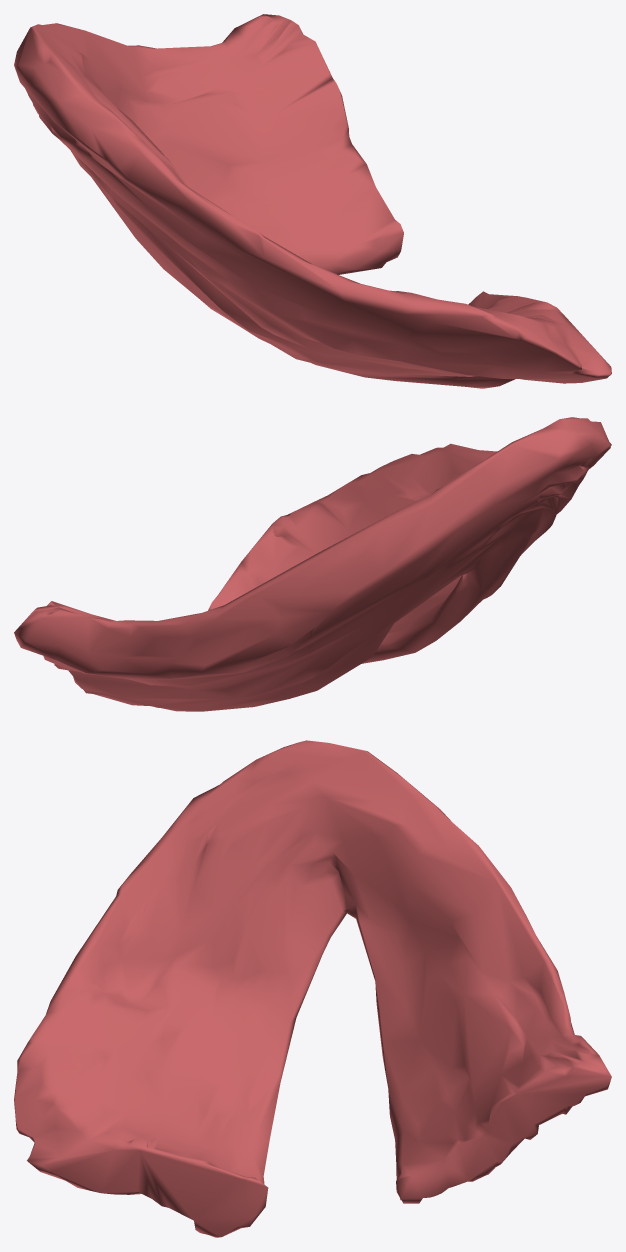
3 views of the same model, one above another, from view 1: azimuth 30°, elevation 25°; view 2: azimuth 150°, elevation 25°; view 3: azimuth 270°, elevation 25° (orthographic). The views are drawn at different scales.
Parts seen in each view (by area): view 1: 右侧口轮匝肌; view 2: 右侧口轮匝肌; view 3: 右侧口轮匝肌.
Part boxes in pixels (left/top/right/bottom): 右侧口轮匝肌: left=14, top=14, right=611, bottom=388; 右侧口轮匝肌: left=14, top=417, right=611, bottom=711; 右侧口轮匝肌: left=14, top=740, right=611, bottom=1237.
Size of the model in its own units: 0.0473 by 0.0407 by 0.0669.
